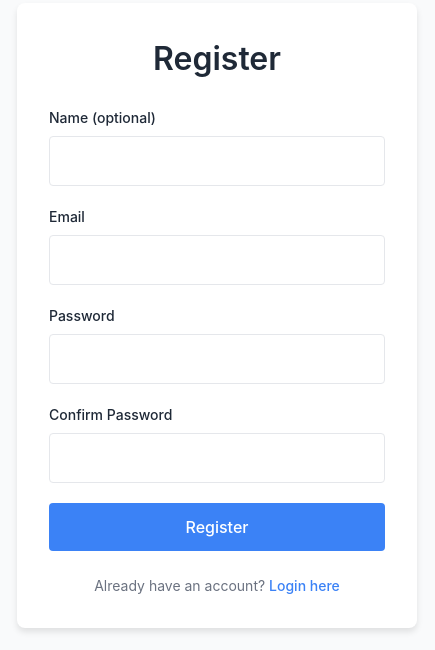
it: RegisterPage › form submission › should show loading state while submitting
The width and height of the screenshot is (435, 650).
Type "test@example.com" into the field labelled "Email" at (217, 260), box [49,234,385,284]
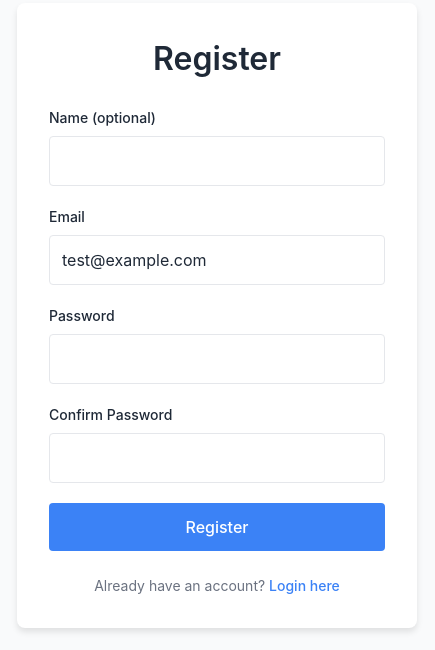
Type "TestPass123!" into the password field labelled "Password" at (217, 358), box [49,334,385,384]
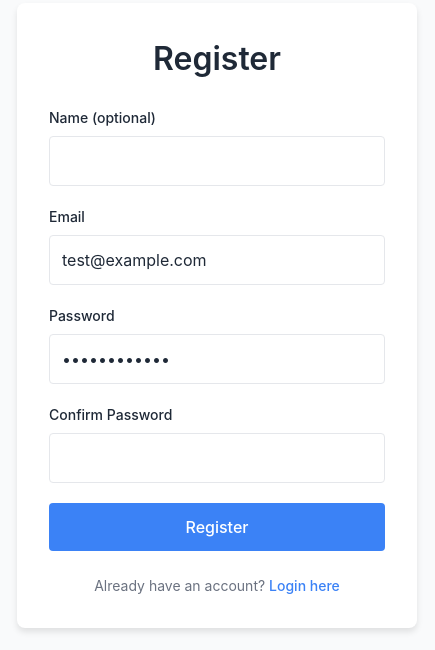
Type "TestPass123!" into the password field labelled "Confirm Password" at (217, 458), box [49,432,385,482]
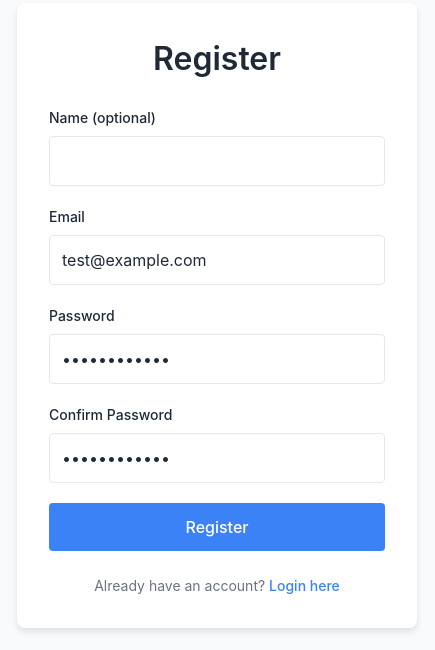
Click the button "Register" at (217, 526), box [49,502,385,550]
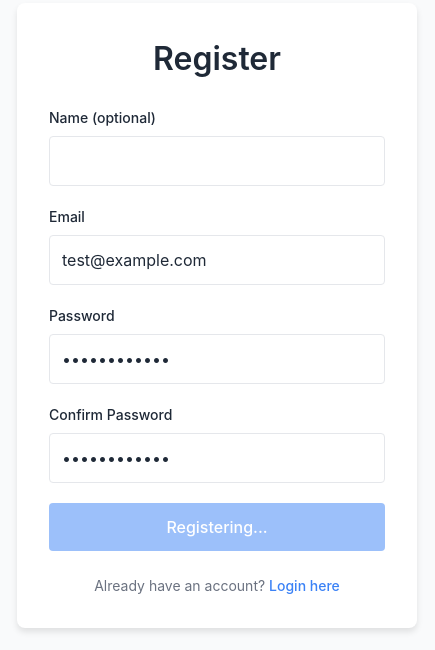
Expected: the button "Registering..." is disabled, [49,502,385,550]
